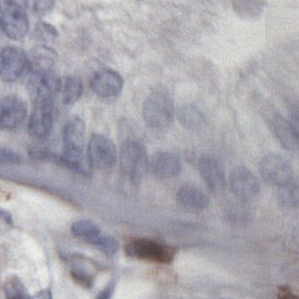Lymphocyte: (133, 238, 174, 263)
